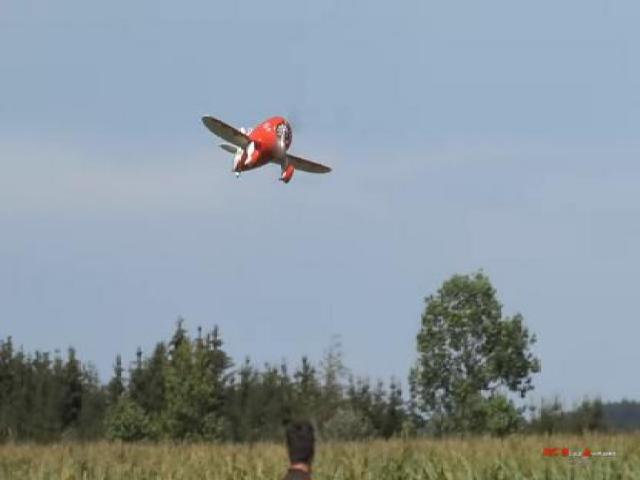uav: (196, 105, 335, 194)
